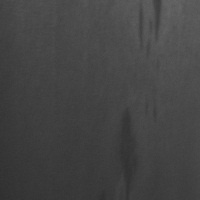inclusion: (112, 103, 147, 199), (133, 0, 165, 67)
